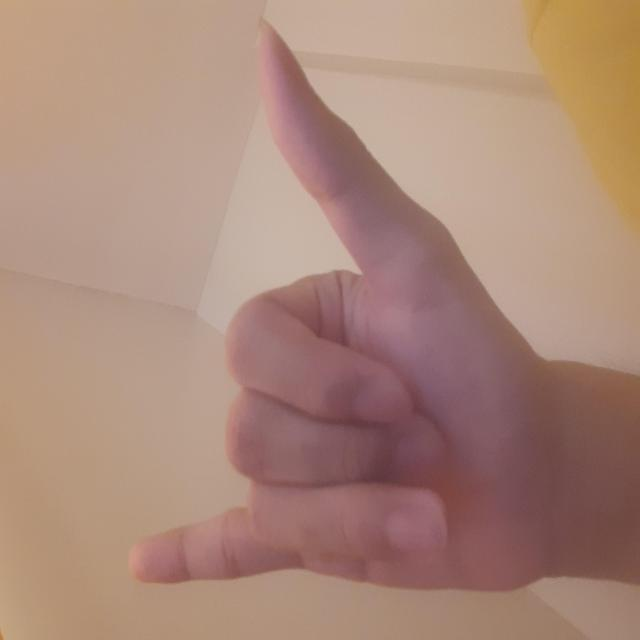Y: (51, 10, 602, 623)
